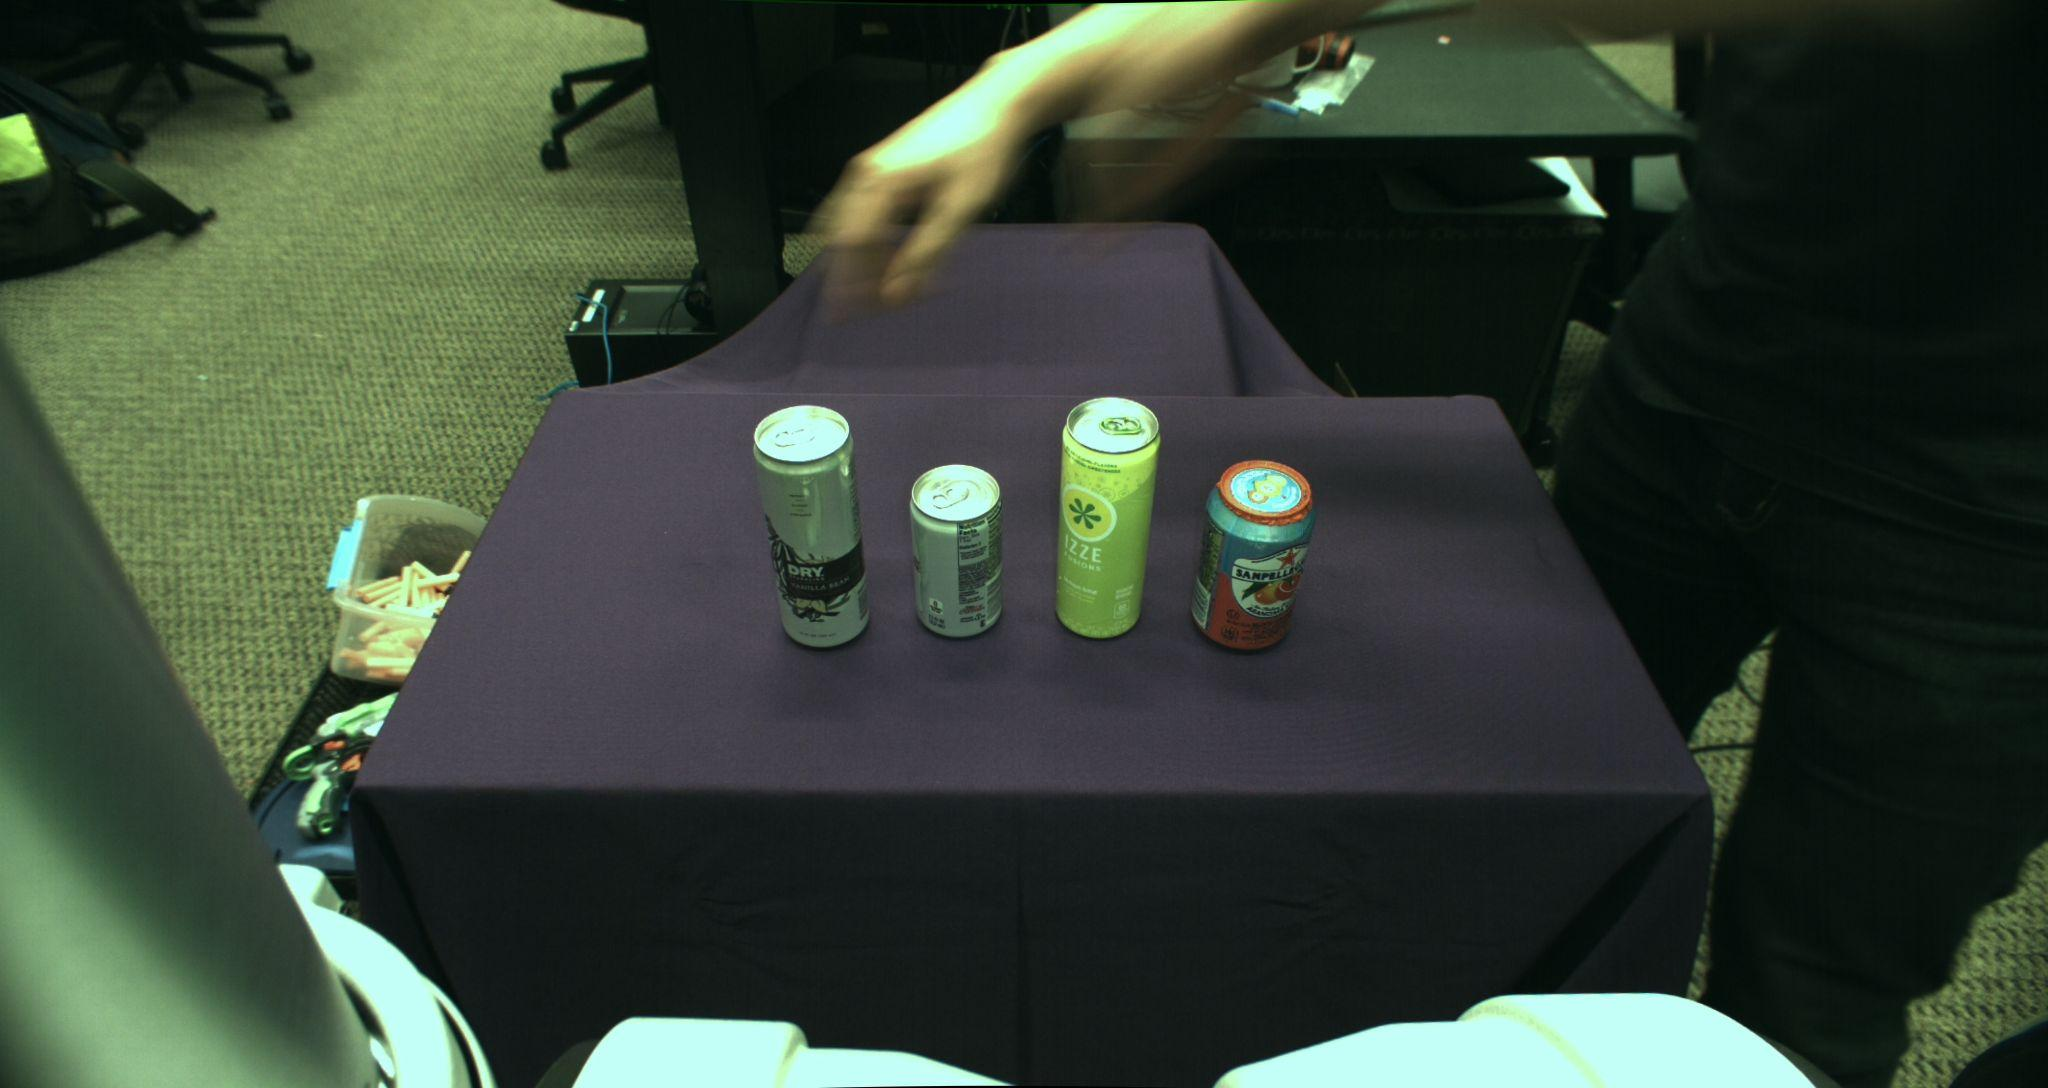can_diet_coke_small: (909, 463, 1005, 640)
can_dry_sparkling_vanilla_bean: (753, 402, 870, 649)
can_izze_fusions_lemon_lime: (1052, 396, 1159, 638)
can_sanpellegrino_blood_orange: (1191, 459, 1317, 652)
